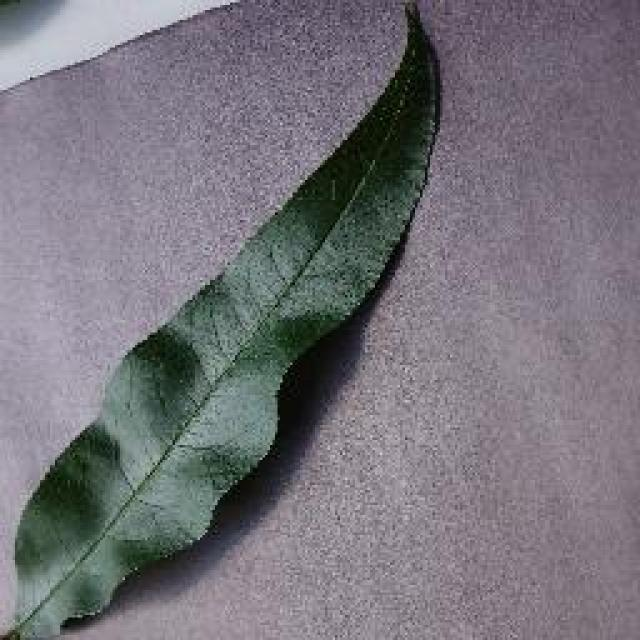Pea_healthy: (30, 61, 462, 604)
